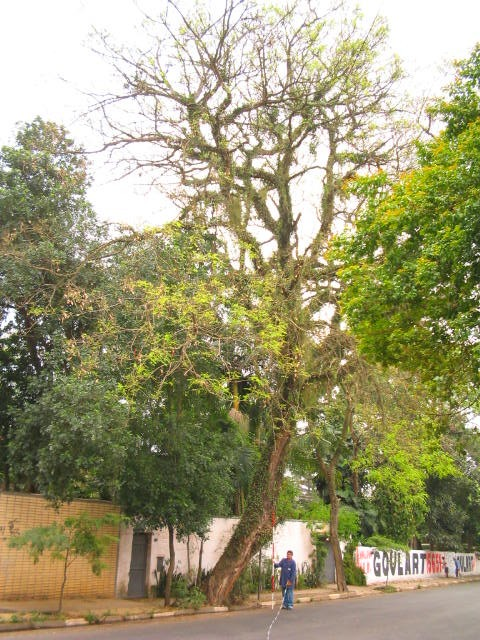crown: (118, 389, 252, 534)
stem: (201, 412, 294, 606), (318, 469, 360, 593), (156, 534, 183, 607)
stick: (263, 513, 282, 608)
tree: (58, 89, 390, 608), (115, 386, 261, 609)
